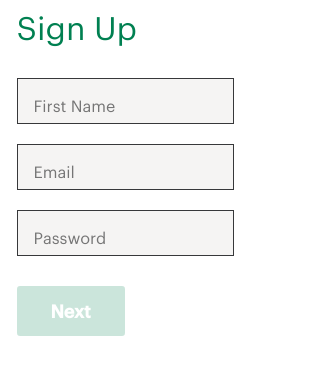
Test: SinUp Page › should render error when name is not correctly filled
Type "asd" into the field with placeholder "First Name" at (125, 101), box x1=16 y1=78 x2=234 y2=124
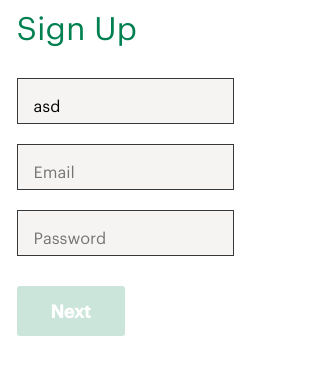
Clear the field with placeholder "First Name" at (125, 101), box x1=16 y1=78 x2=234 y2=124
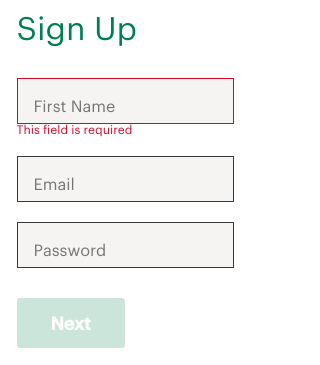
expect the text "This field is required" is shown: met, box x1=16 y1=124 x2=132 y2=136
